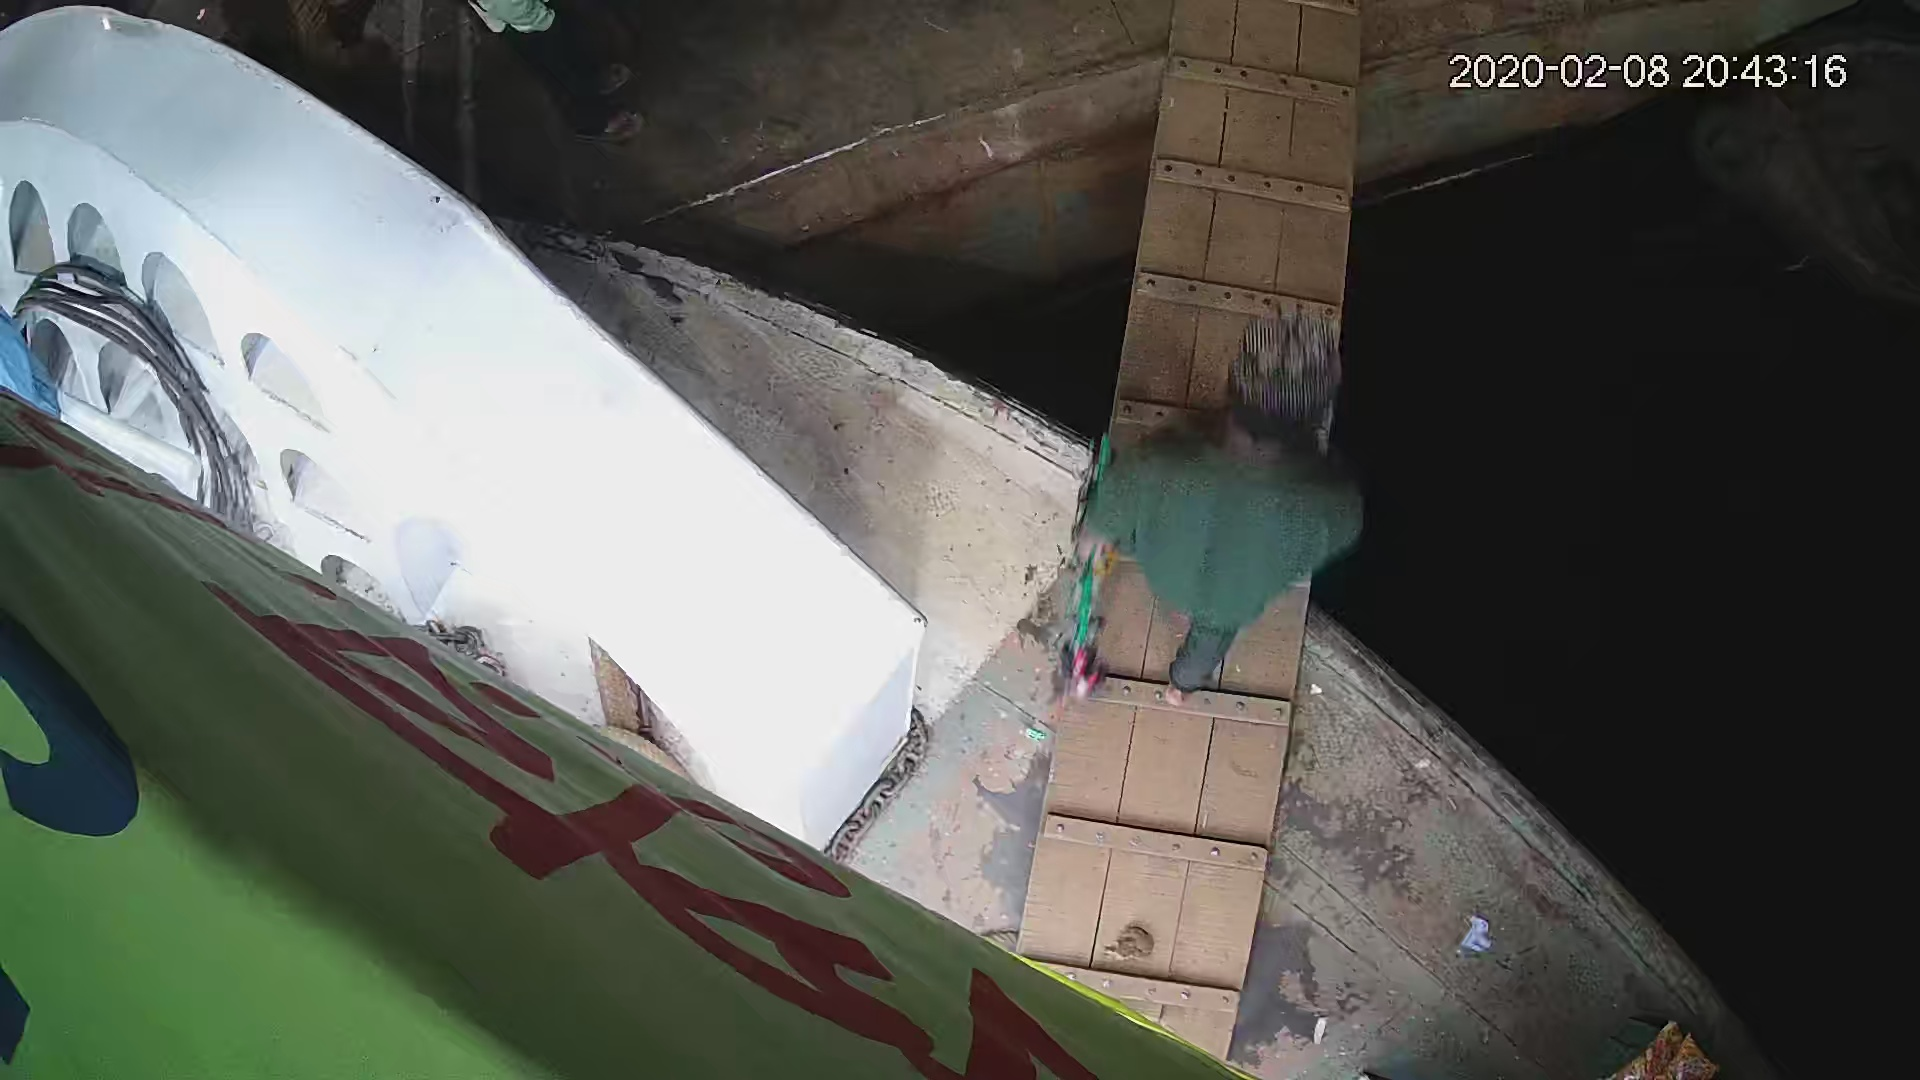person: (1048, 309, 1371, 713)
